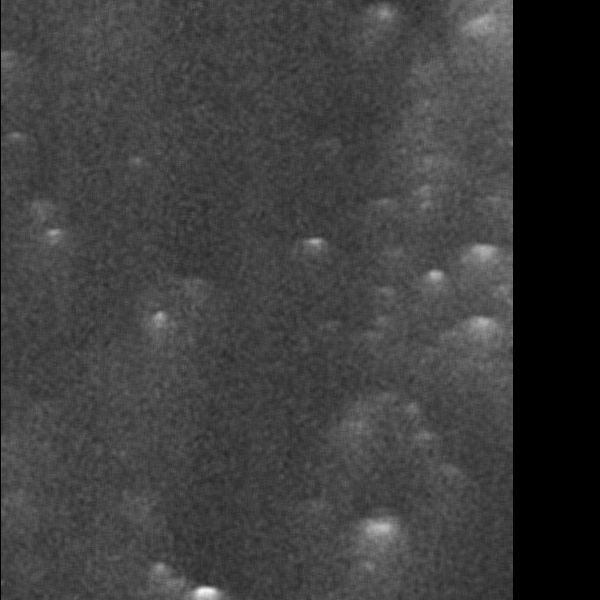spark: (356, 509, 401, 579), (458, 242, 513, 299), (381, 180, 439, 218), (460, 311, 507, 353), (416, 458, 479, 486), (421, 263, 447, 316), (39, 222, 66, 263), (366, 2, 397, 36), (478, 190, 512, 220), (299, 233, 329, 263), (150, 306, 168, 352), (398, 396, 422, 428), (372, 309, 397, 337), (191, 582, 226, 600), (443, 40, 468, 56)
